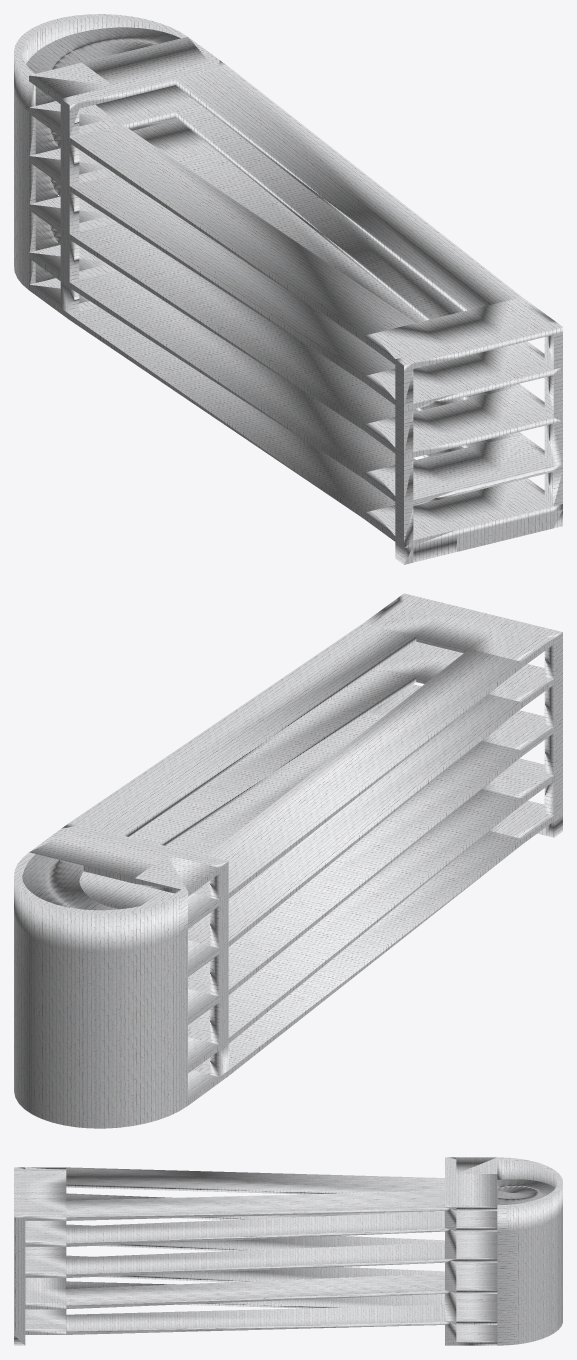
File: brickbuilding.glb
3 views of the same model, one above another, from view 1: azimuth 30°, elevation 25°; view 2: azimuth 150°, elevation 25°; view 3: azimuth 270°, elevation 25° (orthographic). The views are drawn at different scales.
Parts seen in each view (by area): view 1: parking_garage_OBJ.000; view 2: parking_garage_OBJ.000; view 3: parking_garage_OBJ.000.
Part boxes in pixels (x1,y1,x2,y2): parking_garage_OBJ.000: [14, 14, 562, 564]; parking_garage_OBJ.000: [14, 593, 562, 1128]; parking_garage_OBJ.000: [14, 1157, 562, 1345].
Size of what is drawn, in the model's own units: 1.01 by 1.3 by 4.69.
1 material, 1 textured.
